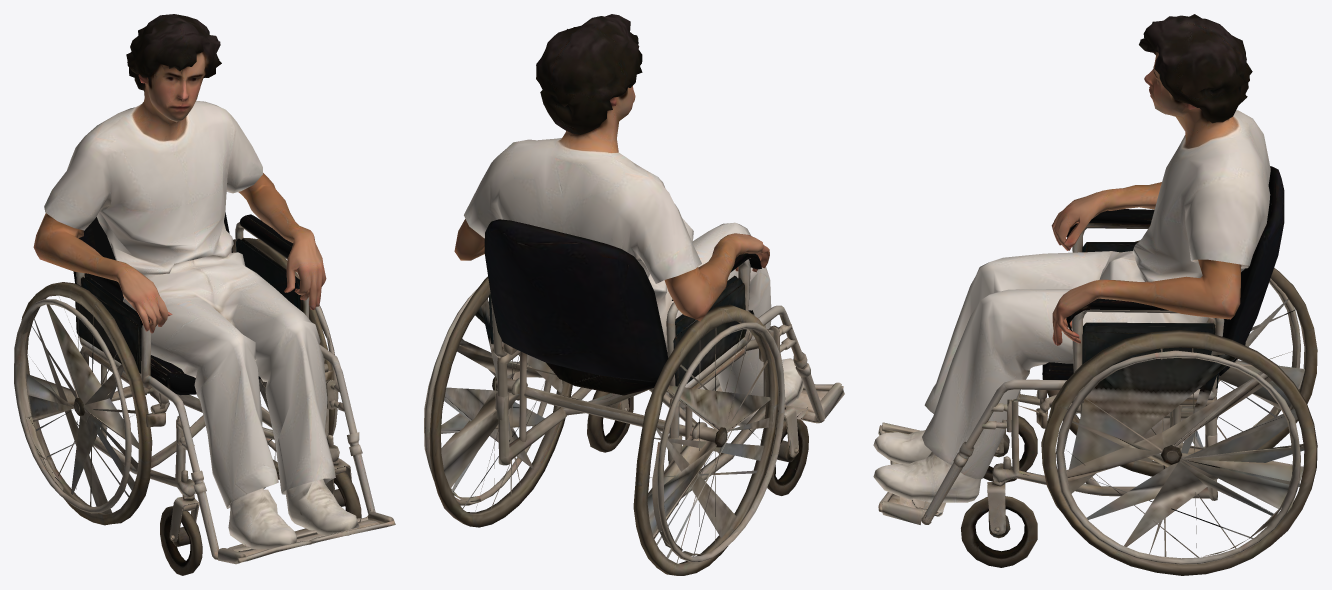
File: wheelchair_man_static.glb
3 renders of one model, left to right at view 1: azimuth 30°, elevation 25°; view 2: azimuth 150°, elevation 25°; view 3: azimuth 270°, elevation 25°, orthographic. The views are drawn at different scales.
Visible parts, largest first — view 1: geometry_0; view 2: geometry_0; view 3: geometry_0.
Part boxes in pixels (<box>): geometry_0: <box>14,14,395,575</box>; geometry_0: <box>424,14,844,575</box>; geometry_0: <box>873,14,1317,575</box>.
Size of the model in its own units: 0.4912 by 0.9517 by 0.752.
Materials: 1 (1 with a texture image).
